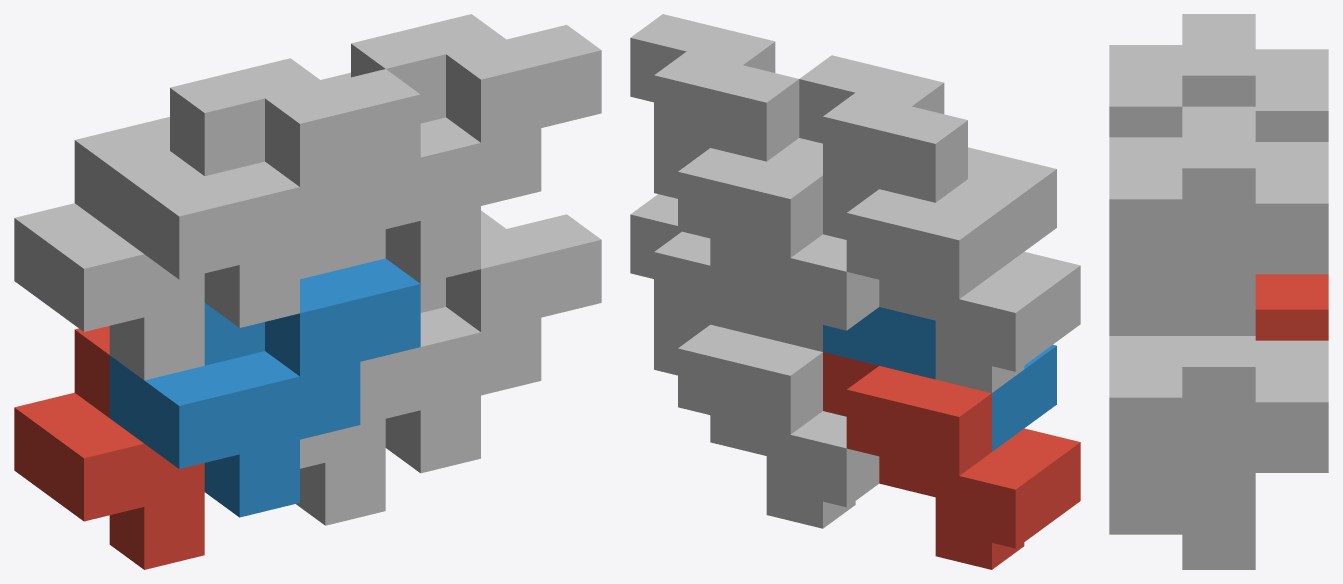
File: tiling.obj
3 renders of one model, left to right at view 1: azimuth 30°, elevation 25°; view 2: azimuth 150°, elevation 25°; view 3: azimuth 270°, elevation 25°, orthographic. The views are drawn at different scales.
Visible parts, largest first — view 1: copy_1_domain_4, copy_1_domain_2, copy_1_domain_8, copy_1_domain_6, copy_1_domain_3, copy_1_domain_1, copy_1_domain_5, copy_1_domain_7; view 2: copy_1_domain_3, copy_1_domain_1, copy_1_domain_4, copy_1_domain_5, copy_1_domain_7, copy_1_domain_8, copy_1_domain_6, copy_1_domain_2; view 3: copy_1_domain_8, copy_1_domain_6, copy_1_domain_5, copy_1_domain_7, copy_1_domain_4, copy_1_domain_3, copy_1_domain_1.
Part boxes in pixels (x1,y1,x2,y2): copy_1_domain_4: (109, 58, 420, 327); copy_1_domain_2: (109, 258, 420, 517); copy_1_domain_8: (351, 14, 601, 283); copy_1_domain_6: (360, 210, 601, 473); copy_1_domain_3: (14, 117, 204, 380); copy_1_domain_1: (14, 326, 204, 569); copy_1_domain_5: (296, 419, 385, 525); copy_1_domain_7: (300, 72, 385, 279); copy_1_domain_3: (823, 175, 1080, 393); copy_1_domain_1: (823, 352, 1080, 569); copy_1_domain_4: (799, 55, 1056, 274); copy_1_domain_5: (654, 311, 879, 528); copy_1_domain_7: (654, 134, 879, 351); copy_1_domain_8: (630, 14, 822, 175); copy_1_domain_6: (630, 194, 766, 338); copy_1_domain_2: (823, 307, 1056, 451); copy_1_domain_8: (1109, 106, 1255, 335); copy_1_domain_6: (1109, 336, 1255, 534); copy_1_domain_5: (1182, 340, 1328, 569); copy_1_domain_7: (1182, 142, 1328, 335); copy_1_domain_4: (1109, 14, 1255, 137); copy_1_domain_3: (1255, 49, 1328, 141); copy_1_domain_1: (1255, 274, 1328, 340).
Bounding box in the file's own units: 8 × 7 × 3.
